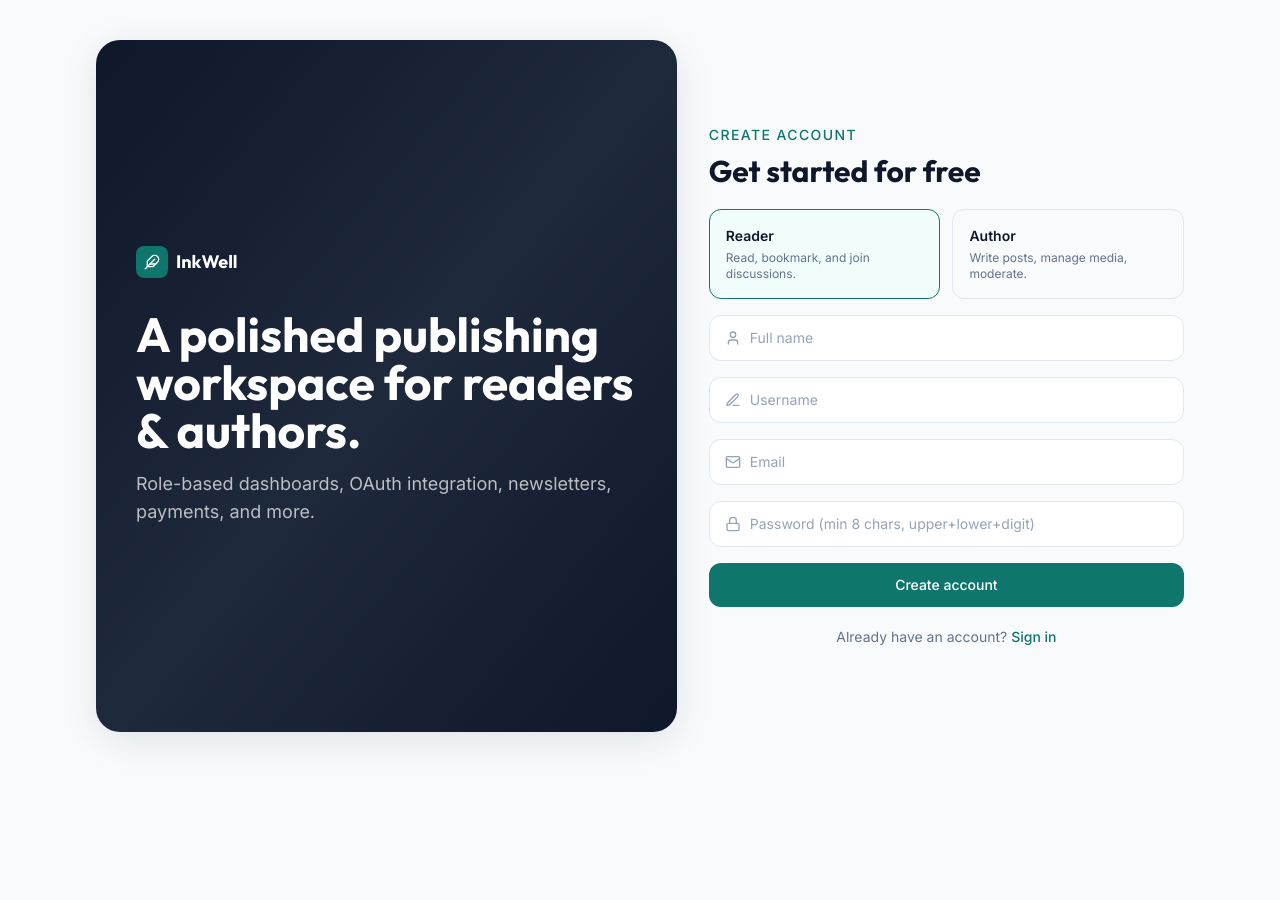
Test case: RegisterPage › shows error on failed registration
Step 1. Type "Test" into the field with placeholder "Full name" → point(946, 338), box [709,315,1184,361]
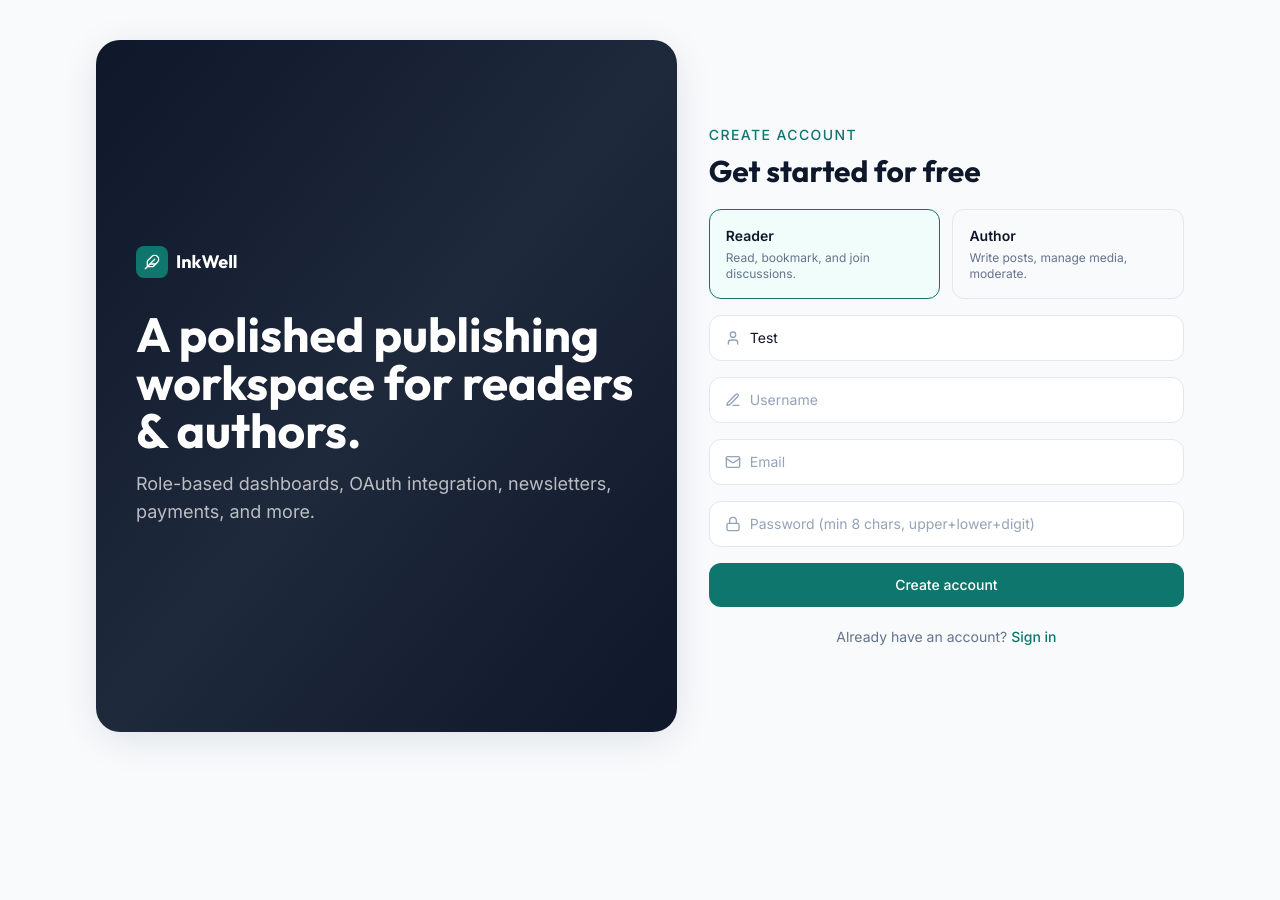
Step 2. Type "test" into the field with placeholder "Username" → point(946, 400), box [709,377,1184,423]
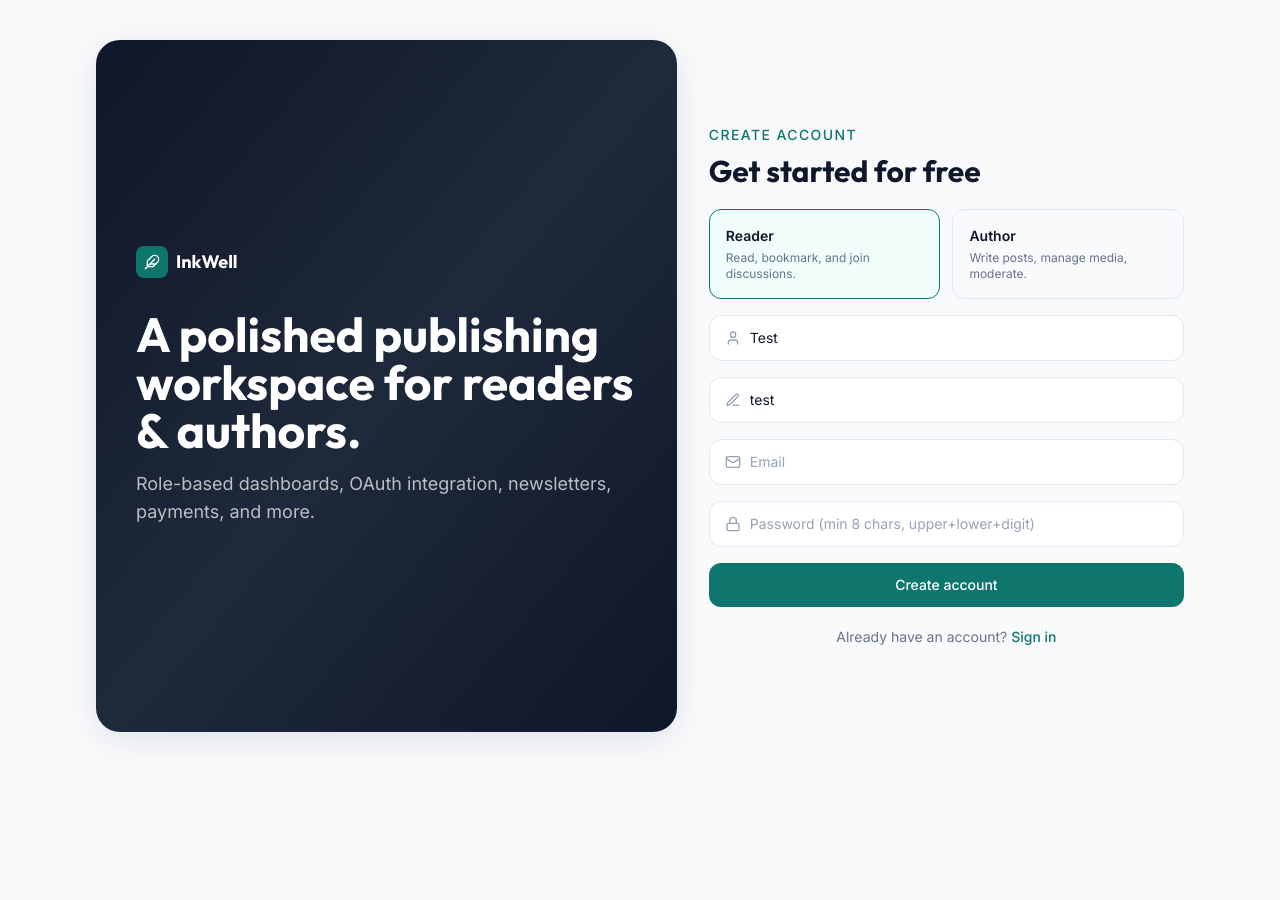
Step 3. Type "taken@test.com" into the field with placeholder "Email" → point(946, 462), box [709,439,1184,485]
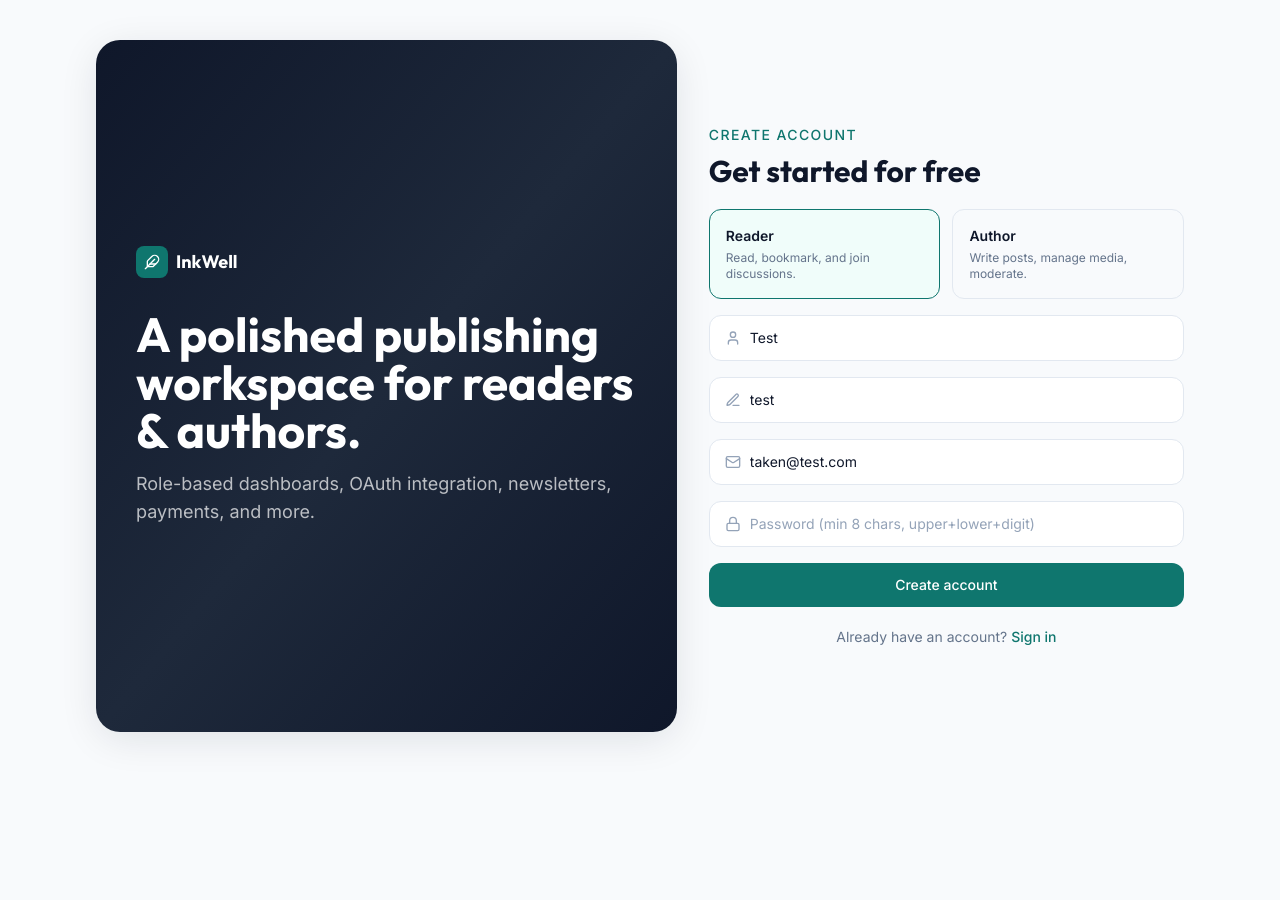
Step 4. Type "Pass1234" into the password field with placeholder "Password (min 8 chars, upper+lower+digit)" → point(946, 524), box [709,501,1184,547]
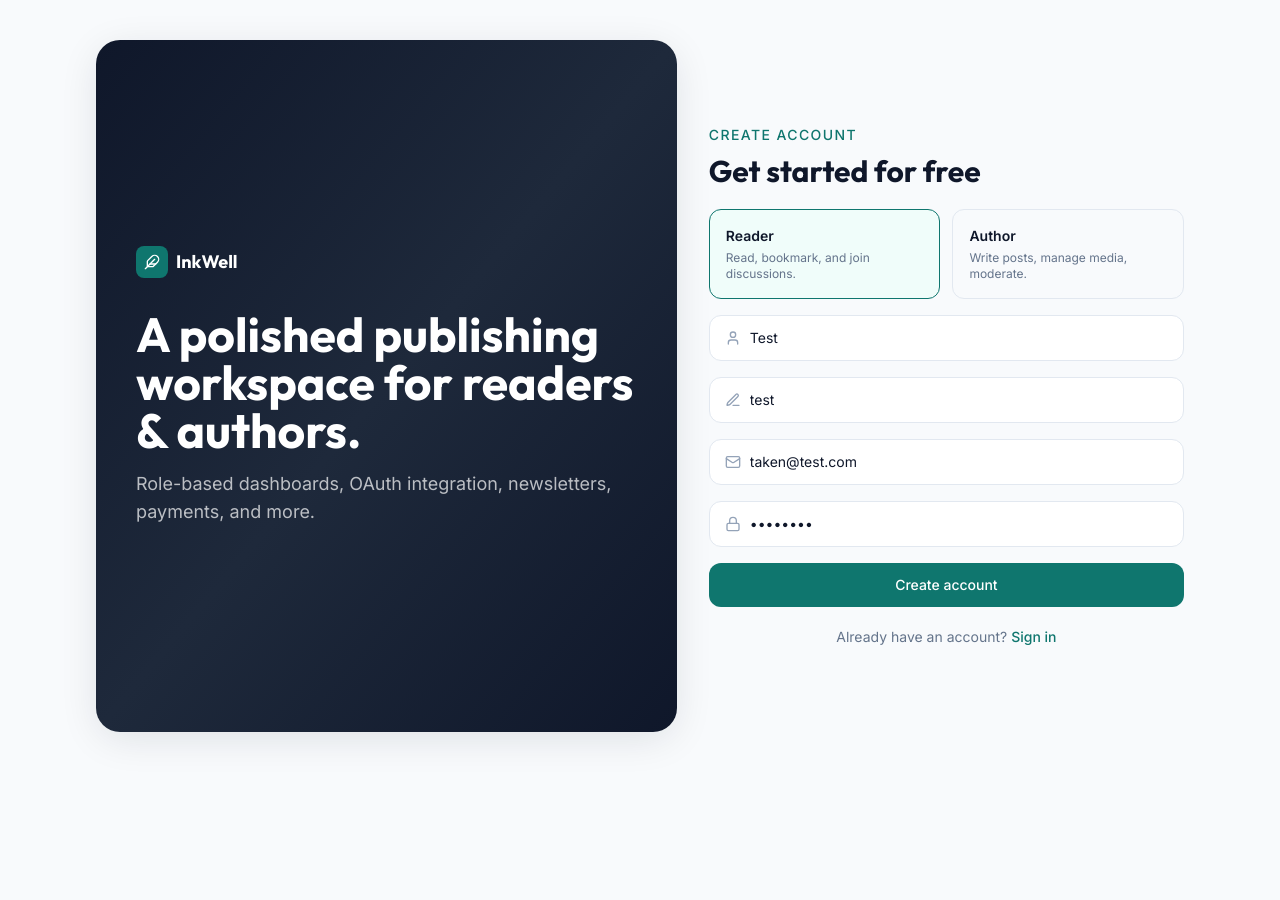
Step 5. Click the button "Create account" → point(946, 585), box [709,563,1184,607]
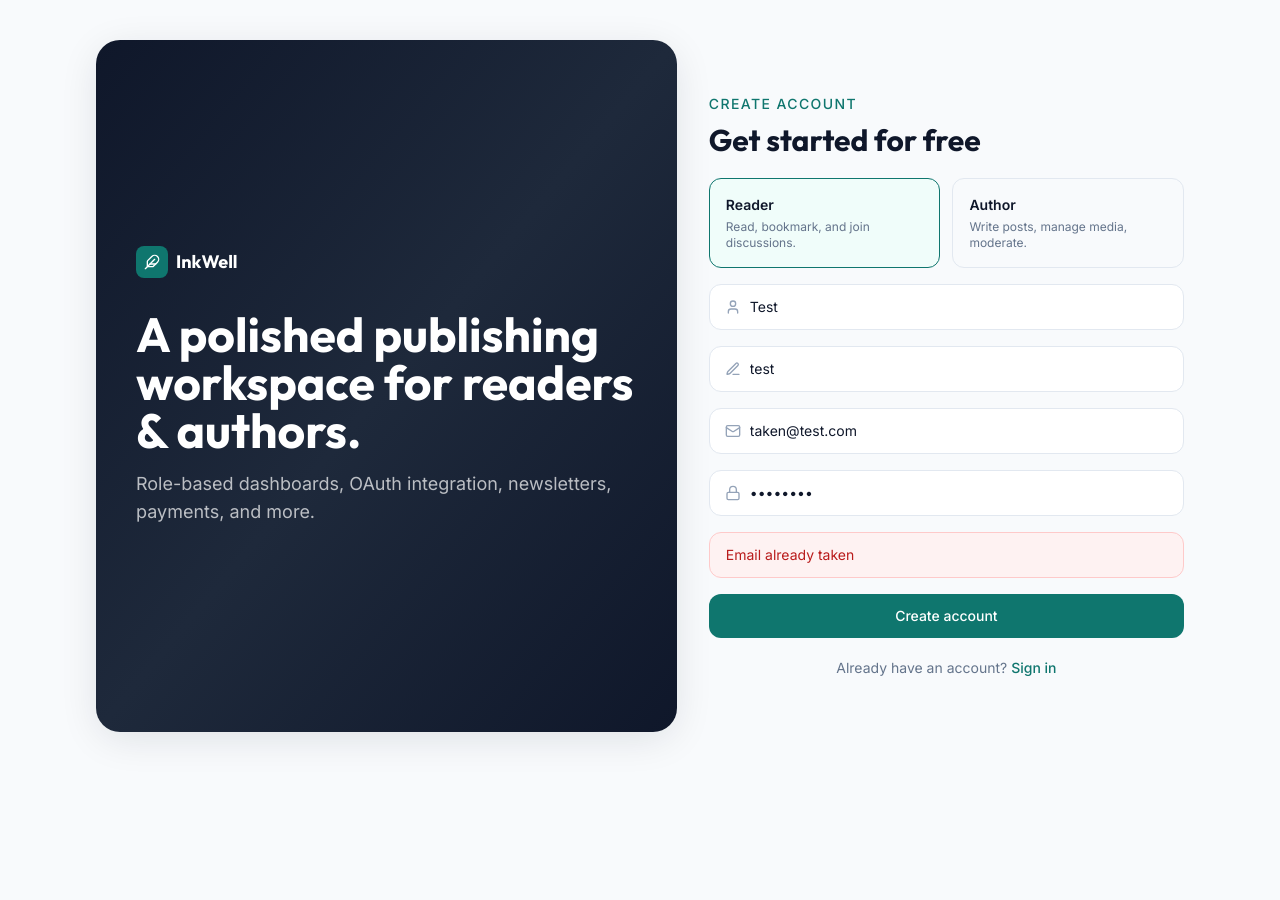
Result: the text "Email already taken" is shown at [709,532,1184,578]
